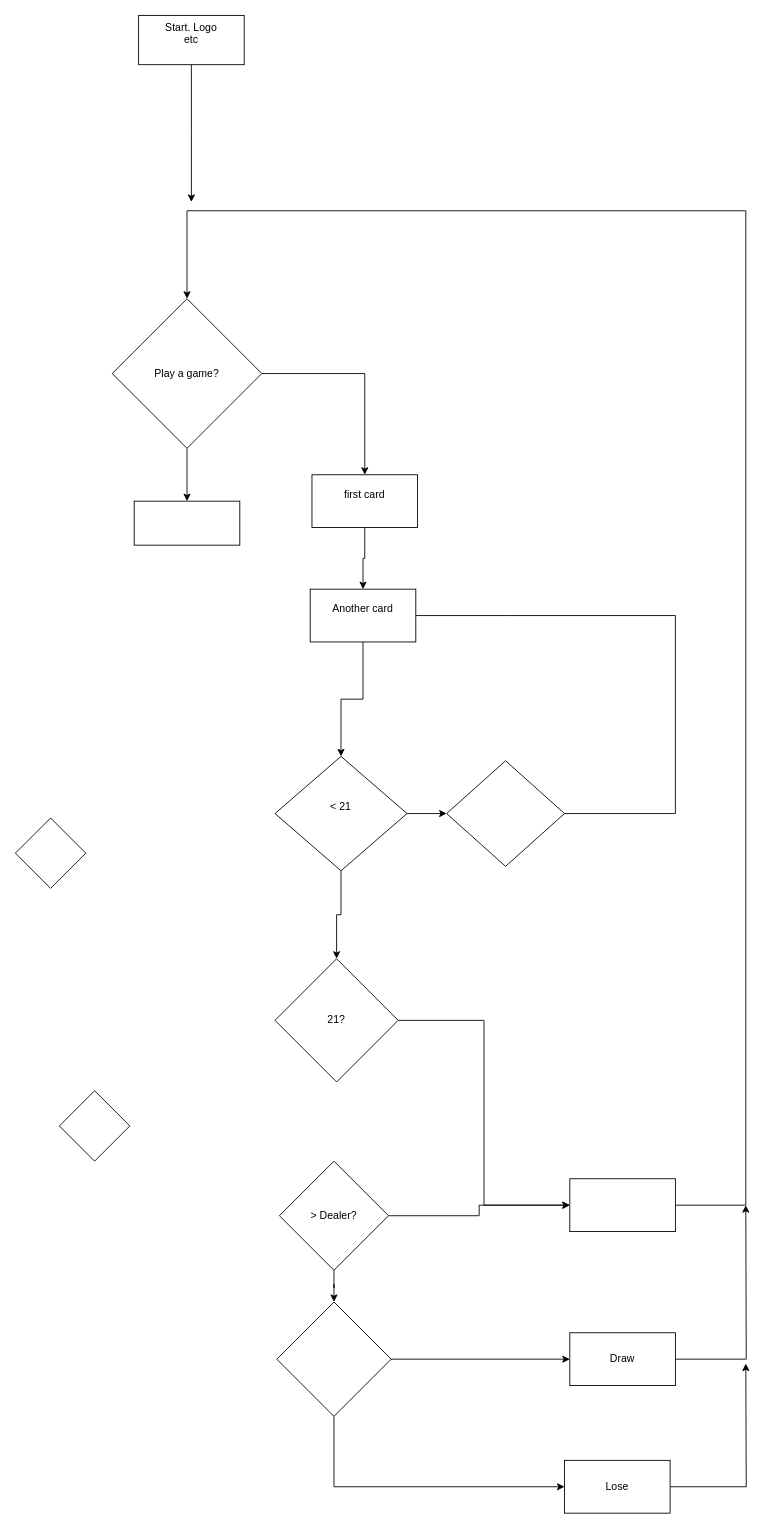
The diagram is 769 pixels wide and 1529 high, and some of its shapes have lost their labels. Each missing label, with the centre of its shape:
= Dealer: (x=333, y=1358)
Finish: (x=186, y=522)
Hit?: (x=505, y=813)
Win: (x=622, y=1205)
